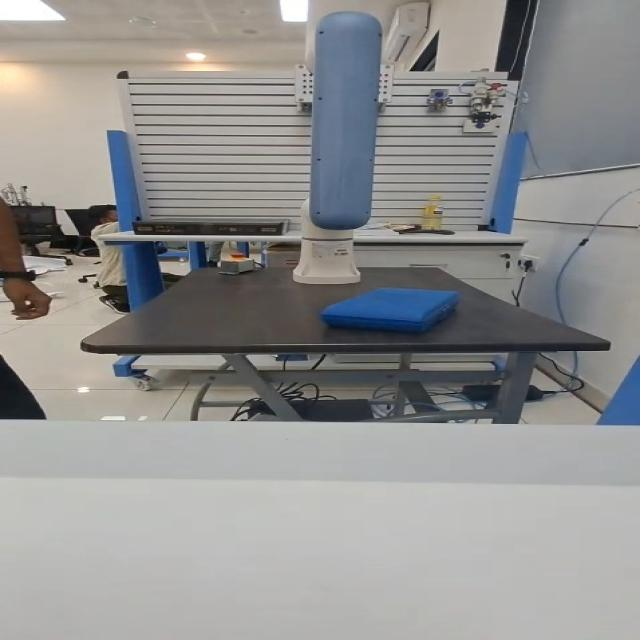top-surface: (354, 291, 439, 308)
